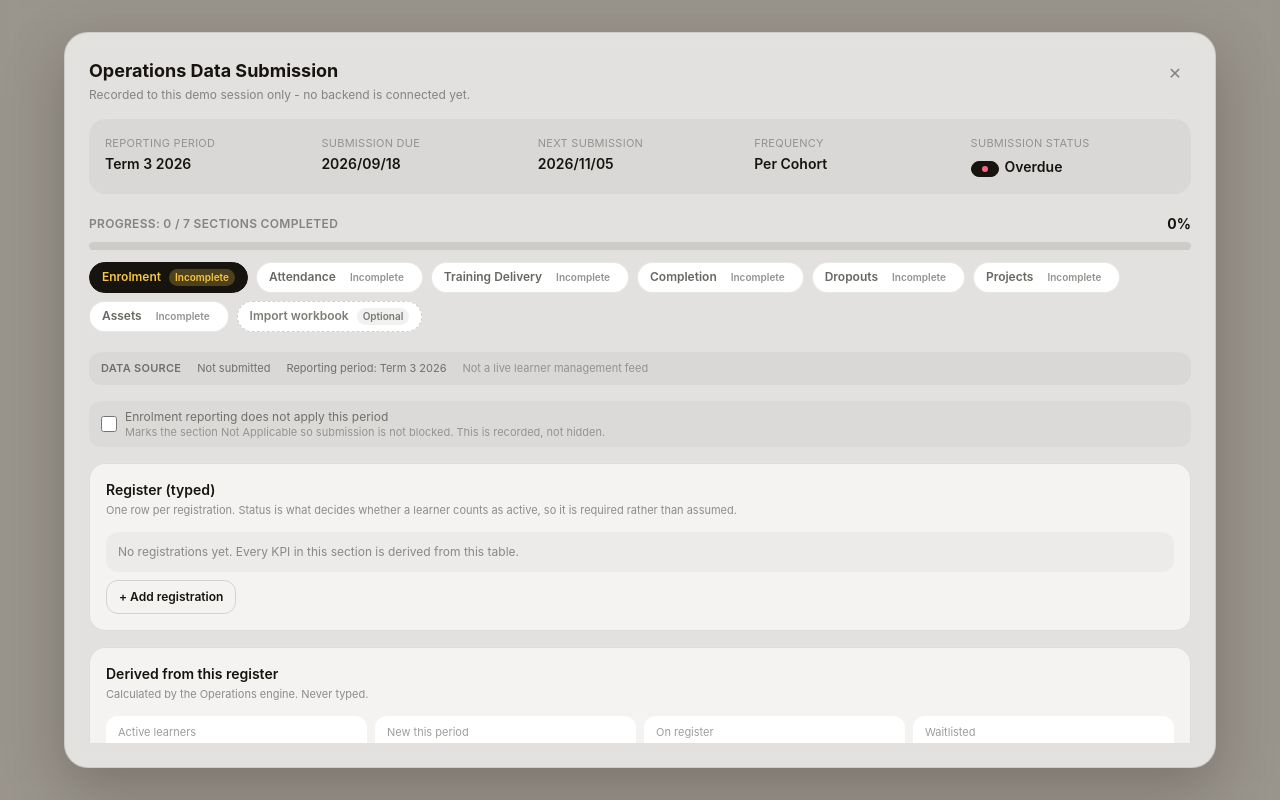
Test: Operations submission modal › refuses an incomplete submission and names the offending section
What coordinates should you click on to do the following:
click the button "Assets Incomplete"
I would click on:
 (159, 316)
Its box is [89, 301, 229, 332].
(page scrolled)
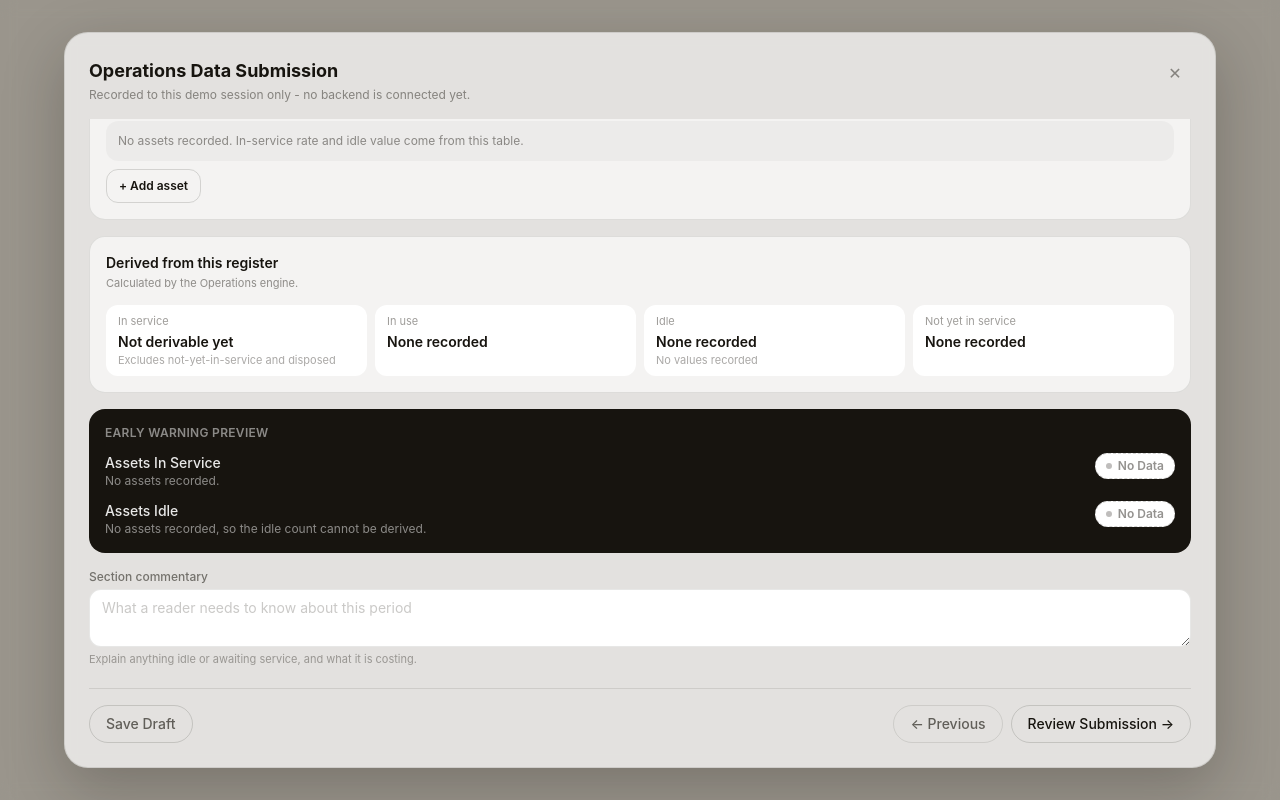
What coordinates should you click on to do the following:
click the button "Review Submission →"
I would click on:
 (1101, 724)
Its box is [1011, 705, 1191, 743].
(page scrolled)
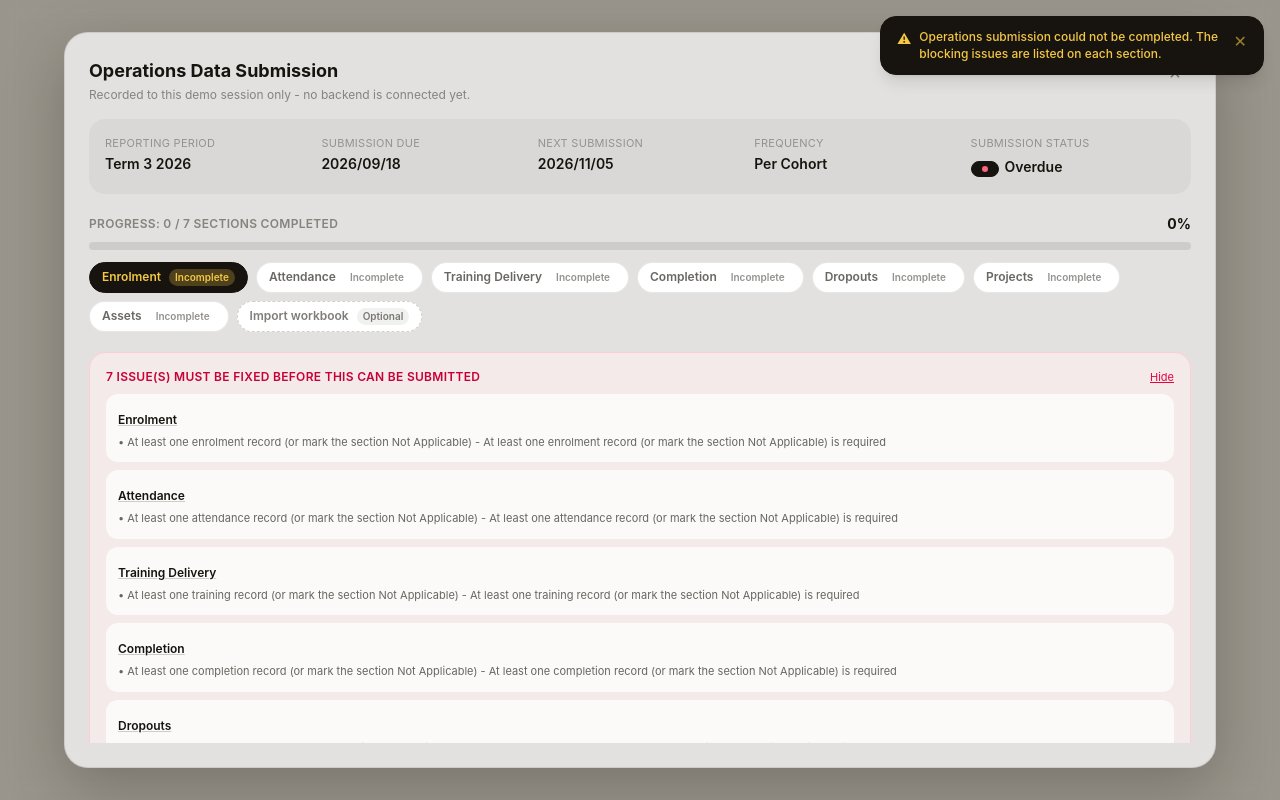
Now the text "submission could not be completed" is shown, box [919, 29, 1218, 60]
Now the button "Assets Incomplete" is shown, box [89, 301, 229, 332]
